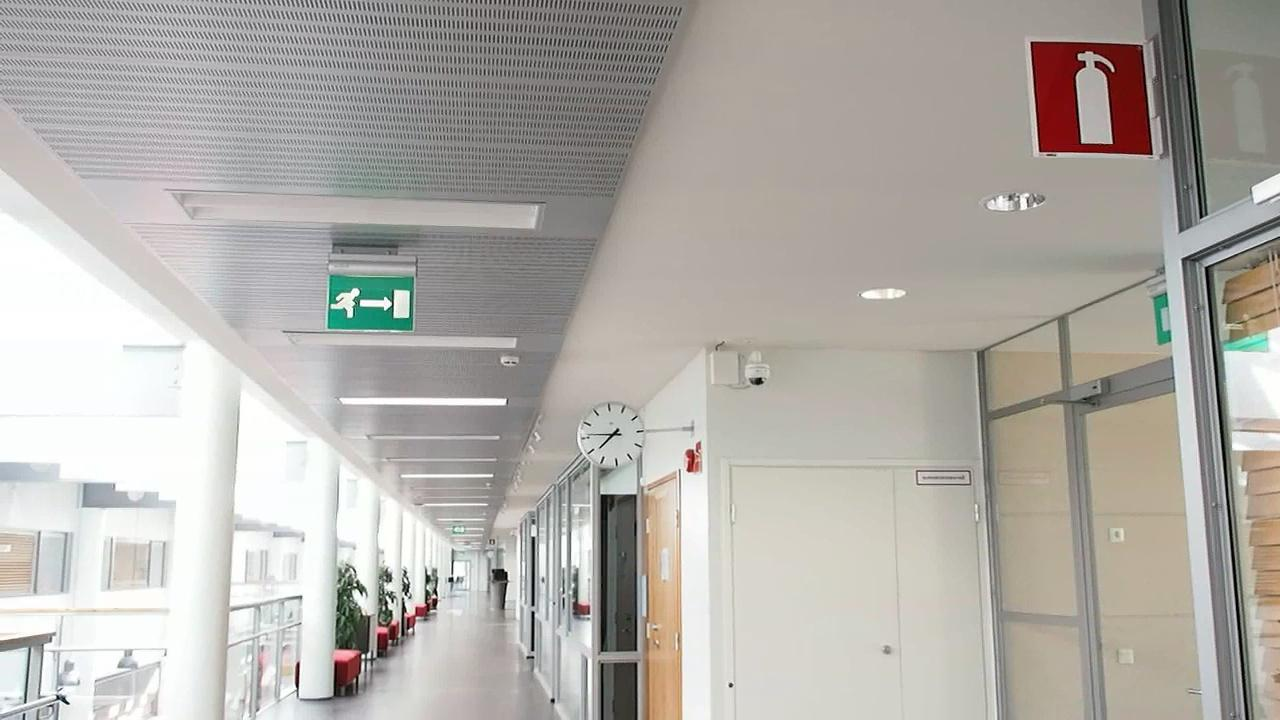clock: (572, 404, 649, 474)
exit: (319, 274, 412, 336)
fireextinguisher: (1039, 38, 1154, 155)
